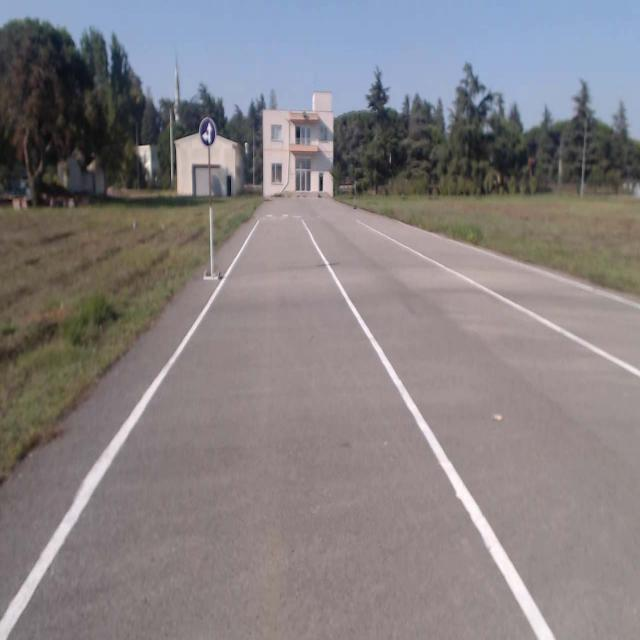ilerisol: (199, 117, 215, 145)
